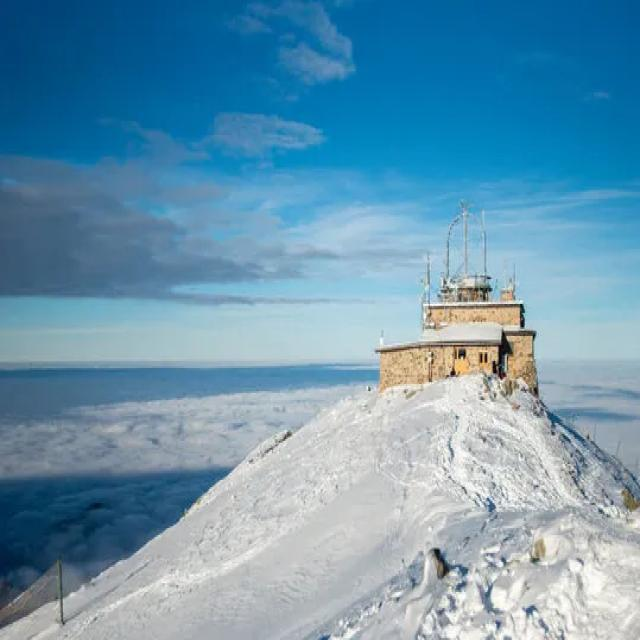Kasprowy Wierch: (269, 121, 640, 608)
